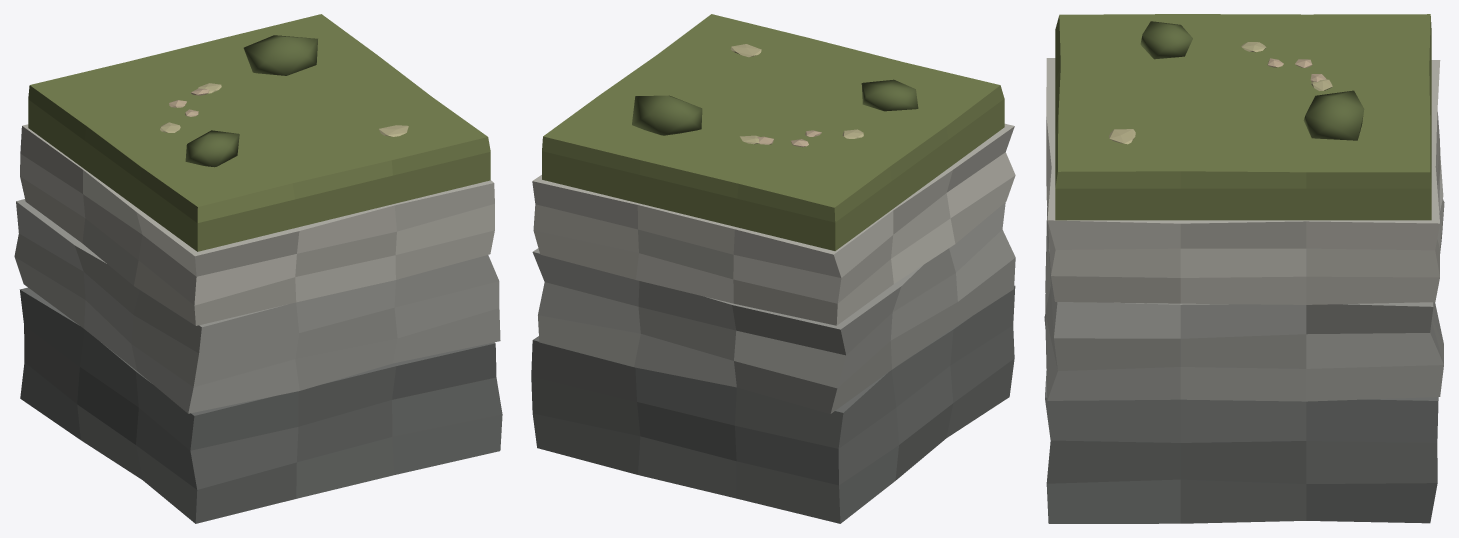
The model's file is cliff_heath.glb.
The picture shows the model from 3 angles, left to right: view 1: azimuth 30°, elevation 25°; view 2: azimuth 150°, elevation 25°; view 3: azimuth 270°, elevation 25°; orthographic projection. The views are drawn at different scales.
Visible parts, largest first — view 1: cliff_heath; view 2: cliff_heath; view 3: cliff_heath.
Boxes of the visible parts, box(x1,y1,x2,y2) form: cliff_heath: box(14, 14, 502, 523); cliff_heath: box(531, 14, 1015, 523); cliff_heath: box(1044, 14, 1444, 523).
Size of the model in its own units: 1.07 by 1.11 by 1.06.
